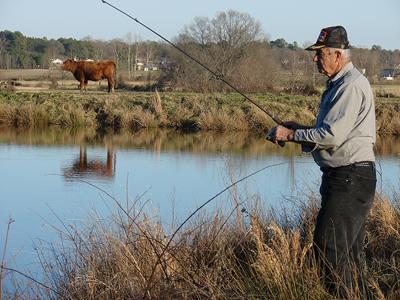person: (271, 26, 378, 294)
